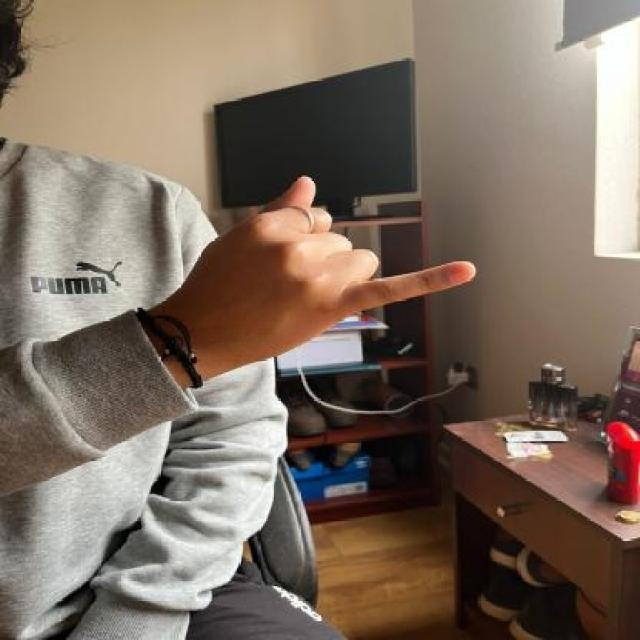J: (175, 170, 479, 358)
